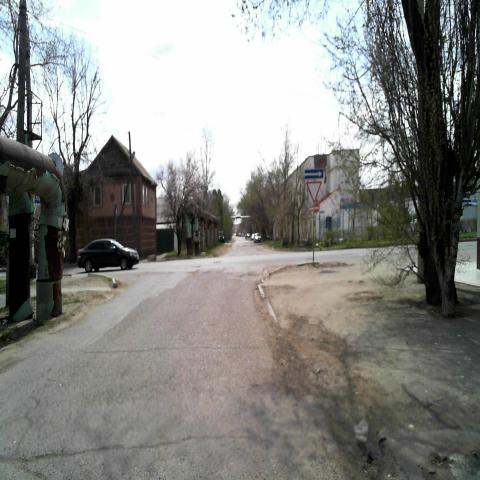5_7_1: (304, 168, 324, 179)
